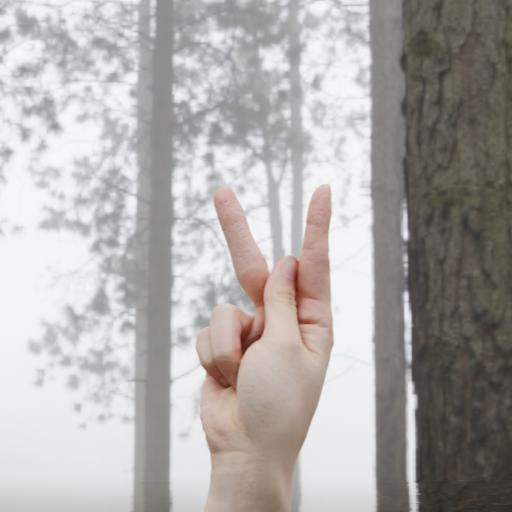K: (181, 167, 347, 453)
